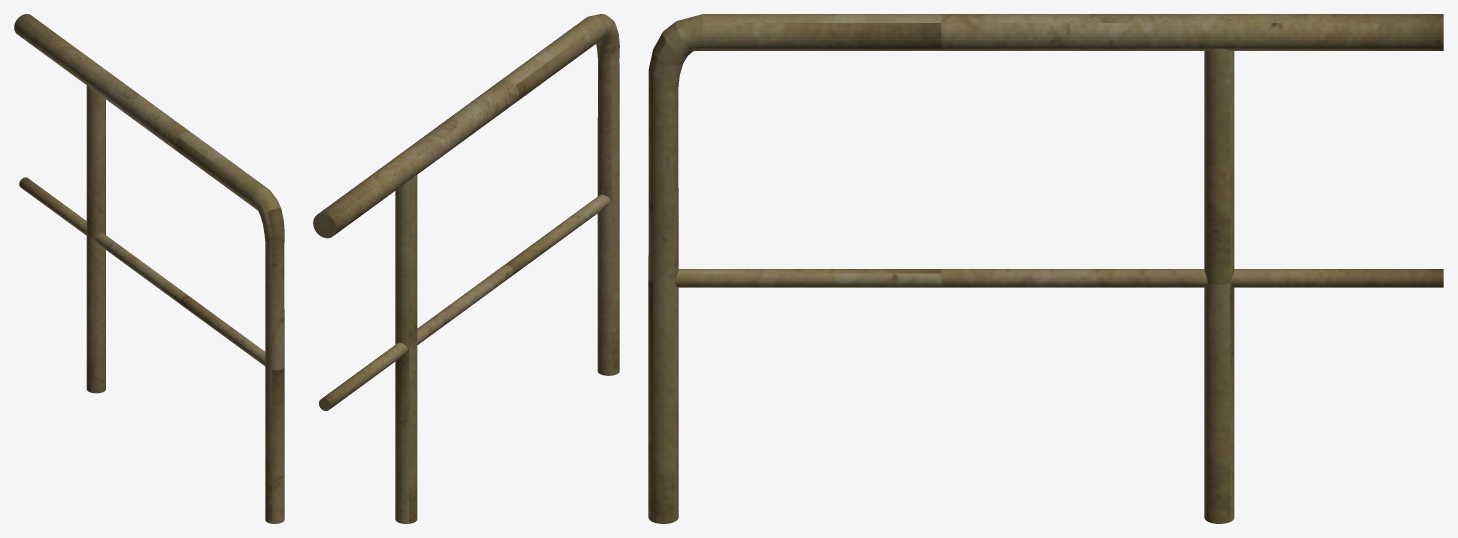
The model's file is fence_edge.fbx.
3 renders of one model, left to right at view 1: azimuth 30°, elevation 25°; view 2: azimuth 150°, elevation 25°; view 3: azimuth 270°, elevation 25°, orthographic. The views are drawn at different scales.
Parts seen in each view (by area): view 1: Circle; view 2: Circle; view 3: Circle.
Part boxes in pixels (left/top/right/bottom): Circle: left=14, top=14, right=284, bottom=523; Circle: left=313, top=14, right=619, bottom=523; Circle: left=648, top=14, right=1443, bottom=523.
Size of the model in its own units: 286 by 199 by 13.28.
Materials: 1 (1 with a texture image).
